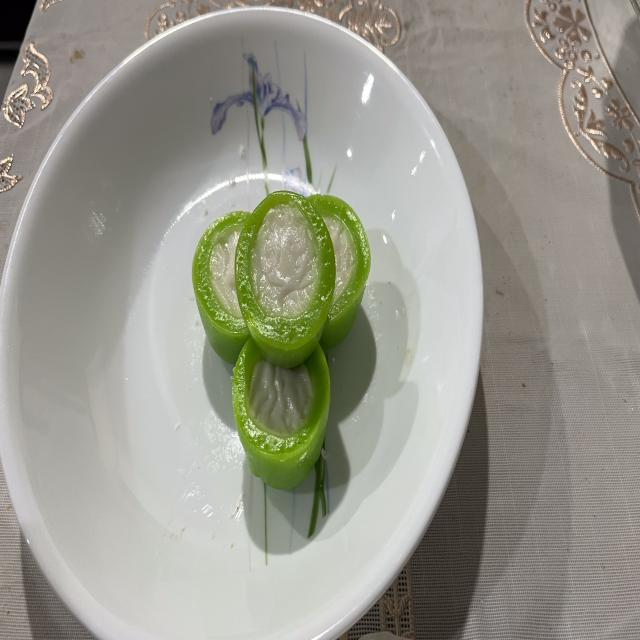nona-manis: (235, 191, 335, 367), (232, 338, 330, 489), (309, 196, 370, 351), (192, 211, 250, 364)
